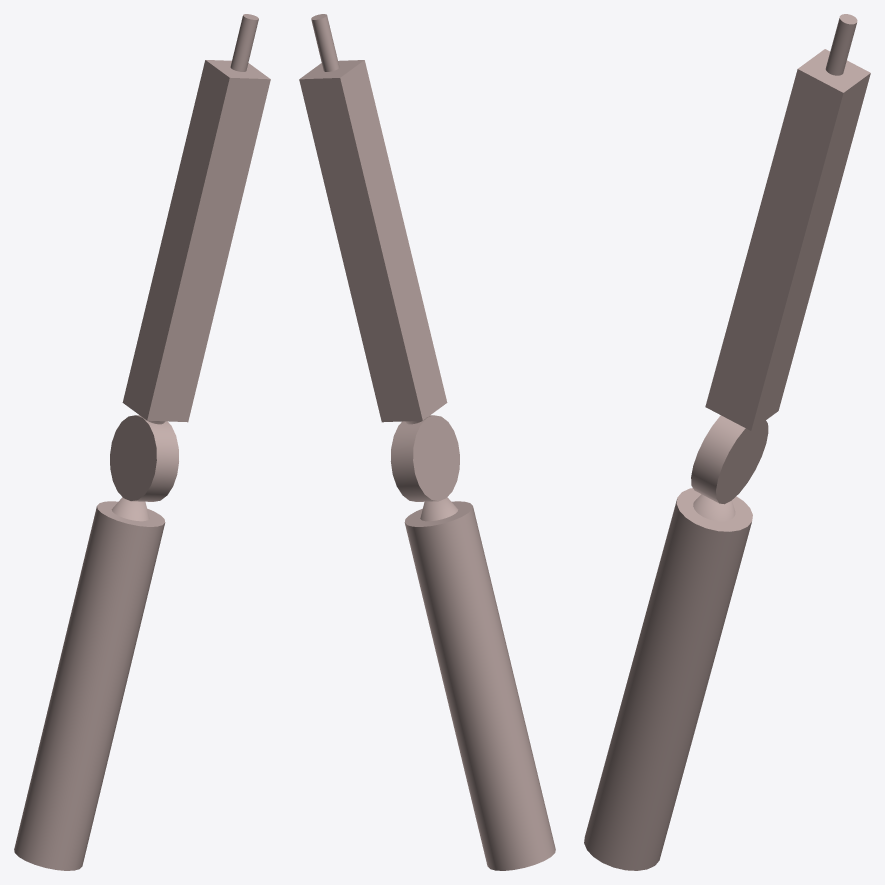
The model's file is brazo2.obj.
3 views of the same model, side by side, from view 1: azimuth 30°, elevation 25°; view 2: azimuth 150°, elevation 25°; view 3: azimuth 330°, elevation 25° (orthographic). The views are drawn at different scales.
Visible parts, largest first — view 1: group6_pCone2; view 2: group6_pCone2; view 3: group6_pCone2.
Boxes of the visible parts, box(x1,y1,x2,y2) form: group6_pCone2: box(14, 14, 270, 870); group6_pCone2: box(299, 14, 555, 870); group6_pCone2: box(584, 14, 870, 870).
Bounding box in the file's own units: 2.49 × 7.97 × 0.7768.
Materials: 1 (1 with a texture image).
